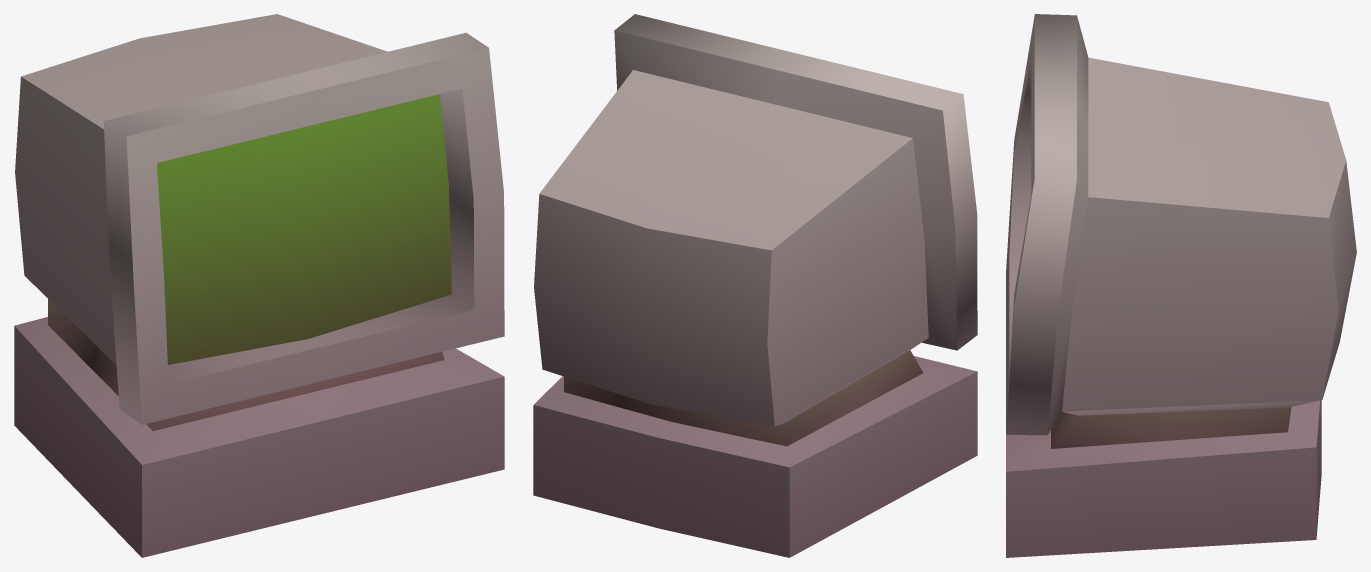
File: puter.glb
3 views of the same model, side by side, from view 1: azimuth 30°, elevation 25°; view 2: azimuth 150°, elevation 25°; view 3: azimuth 270°, elevation 25° (orthographic). The views are drawn at different scales.
Parts seen in each view (by area): view 1: Cube; view 2: Cube; view 3: Cube.
Part boxes in pixels (x1,y1,x2,y2): Cube: [14, 14, 504, 557]; Cube: [533, 14, 977, 557]; Cube: [1006, 14, 1356, 557].
Bounding box in the file's own units: 1.83 × 1.93 × 1.62.
1 material, 1 textured.
